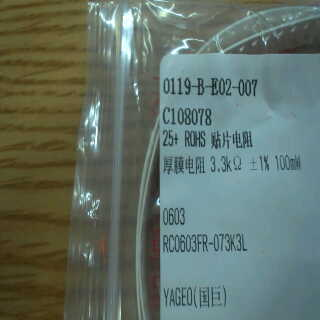3.3kO: (206, 153, 246, 175)
